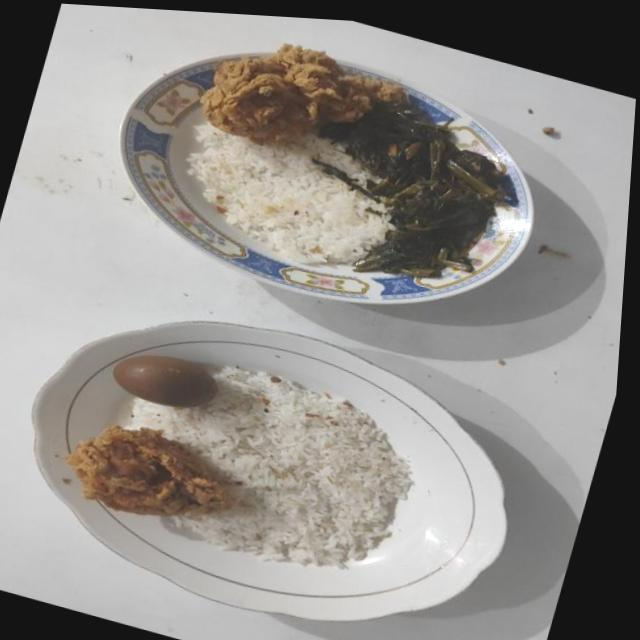nasi_putih: (123, 366, 413, 569), (186, 125, 392, 263)
tumis_kangkung: (312, 100, 509, 278)
